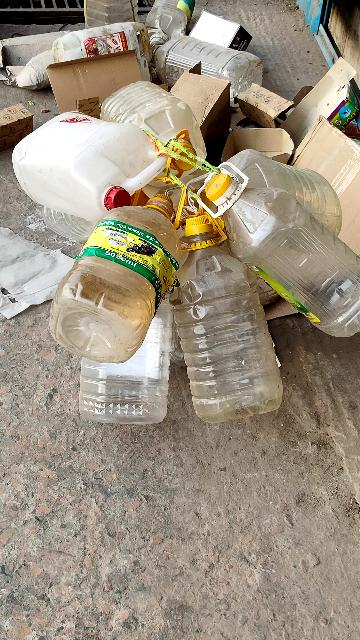bottle: (36, 112, 347, 404)
